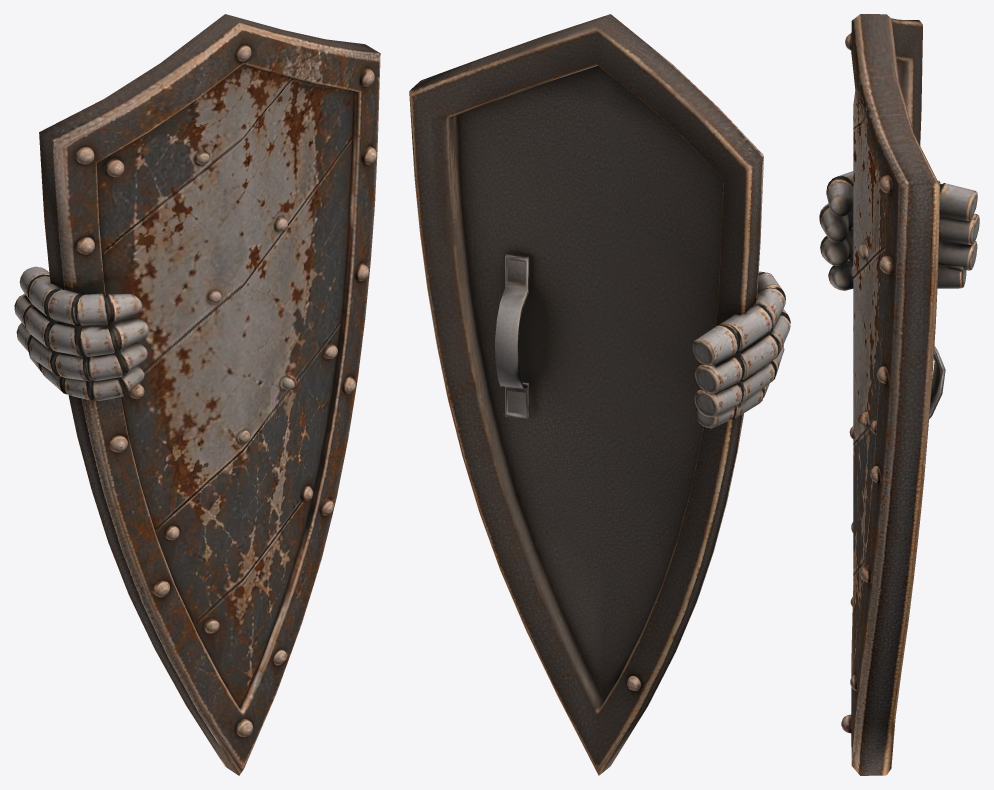
File: player_hand_l.glb
3 renders of one model, left to right at view 1: azimuth 30°, elevation 25°; view 2: azimuth 150°, elevation 25°; view 3: azimuth 270°, elevation 25°, orthographic.
Parts seen in each view (by area): view 1: tripo_node_81647809-4901-4b7b-aba3-893c75914a8a; view 2: tripo_node_81647809-4901-4b7b-aba3-893c75914a8a; view 3: tripo_node_81647809-4901-4b7b-aba3-893c75914a8a.
Part boxes in pixels (box(x1,y1,x2,y2)): tripo_node_81647809-4901-4b7b-aba3-893c75914a8a: box(14, 14, 380, 775); tripo_node_81647809-4901-4b7b-aba3-893c75914a8a: box(409, 14, 790, 775); tripo_node_81647809-4901-4b7b-aba3-893c75914a8a: box(819, 14, 979, 775).
Size of the model in its own units: 0.4819 by 0.9995 by 0.1909.
Materials: 1 (1 with a texture image).
